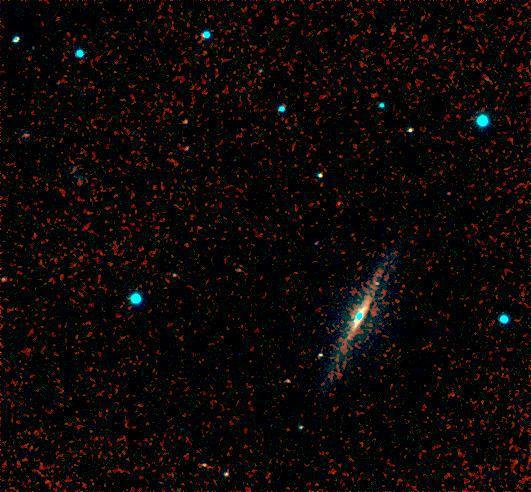star: (363, 271, 393, 301)
